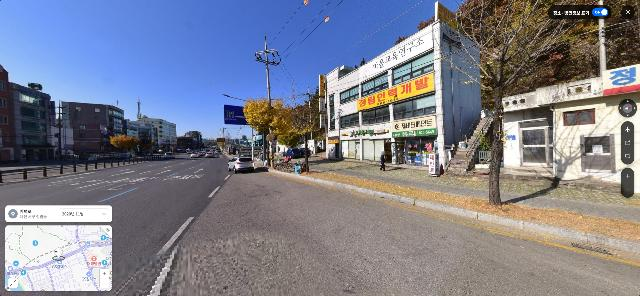ginkgo: (242, 96, 297, 166), (109, 135, 139, 154)
other: (427, 0, 639, 206), (284, 84, 324, 171)
